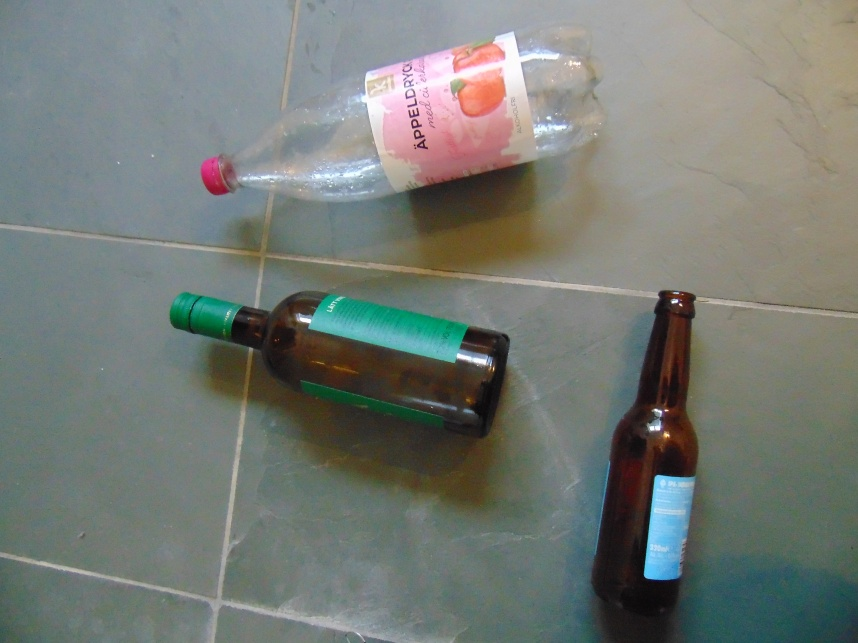glass_bottle: (169, 290, 512, 440), (590, 290, 700, 613)
plastic_bottle: (201, 20, 607, 203)
